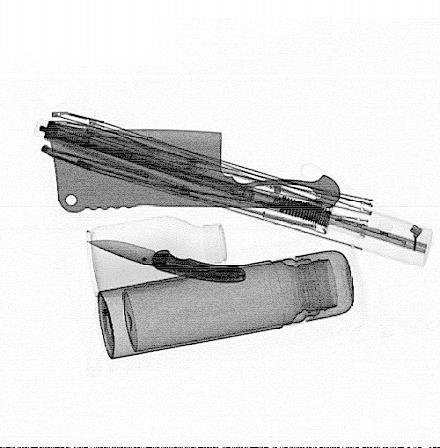Knife: (47, 128, 341, 214), (85, 239, 246, 283)
